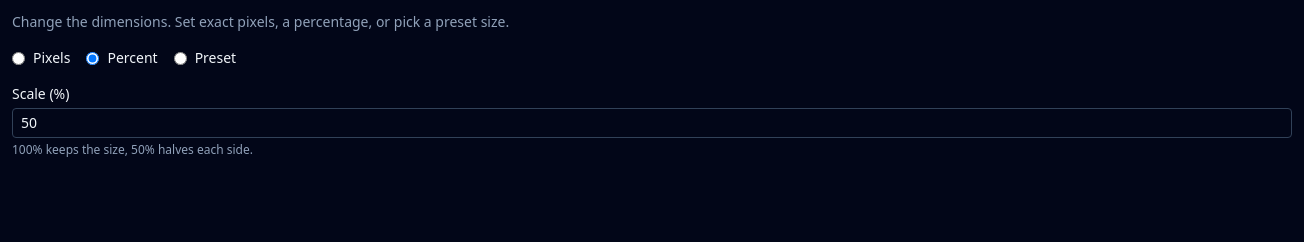
Test case: resize panel › switches to pixels, parses empty as unset and shows errors
Step 1. Click the radio button labelled "Pixels" → (18, 58), box [12,52,25,64]
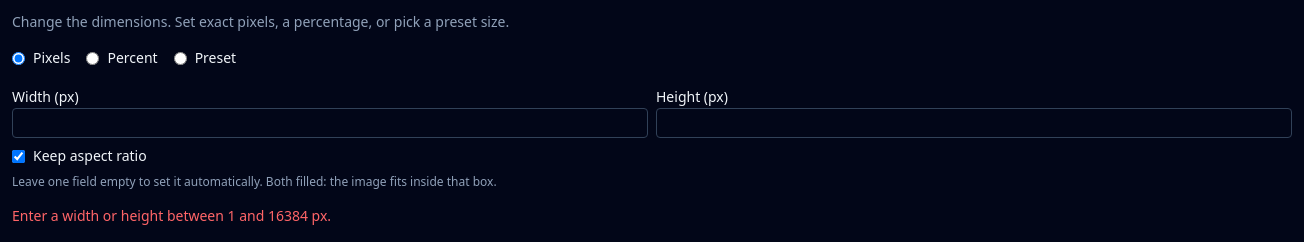
Expected: the message shows "width or height", [12,206,331,225]
Step 2. Type "800" into the number field labelled "Width (px)" → (330, 123), box [12,108,648,138]
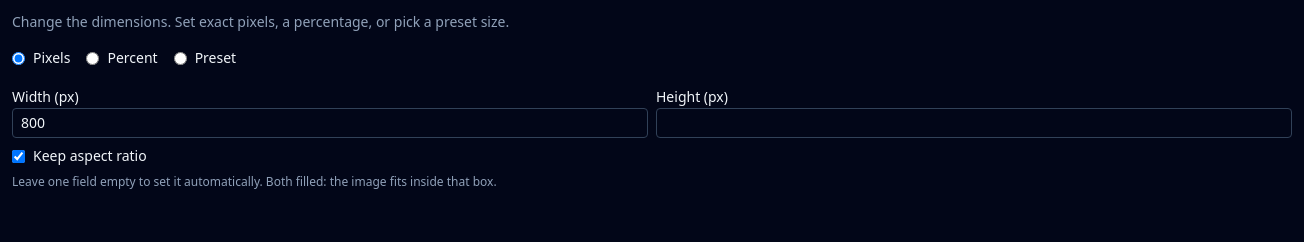
Expected: the message "Enter a width or height between 1 and 16384 px." is gone
Step 3. Click the checkbox labelled "Keep aspect ratio" → (18, 156), box [12,150,25,162]
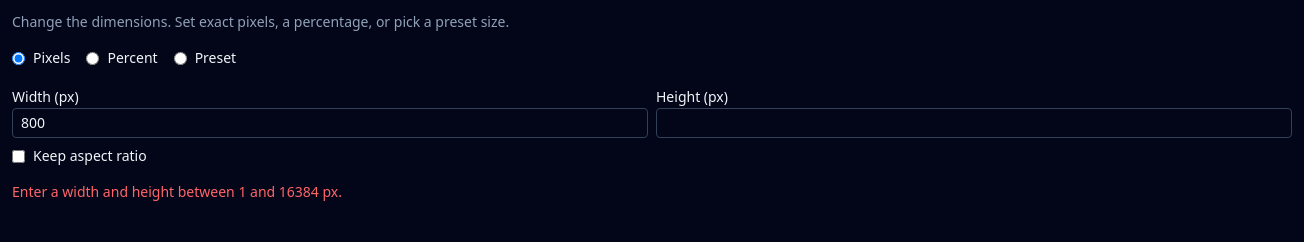
Expected: the message shows "width and height", [12,182,342,201]
